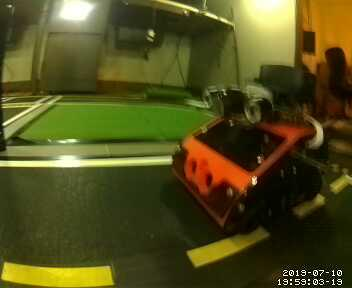pheeno: (169, 63, 327, 234)
